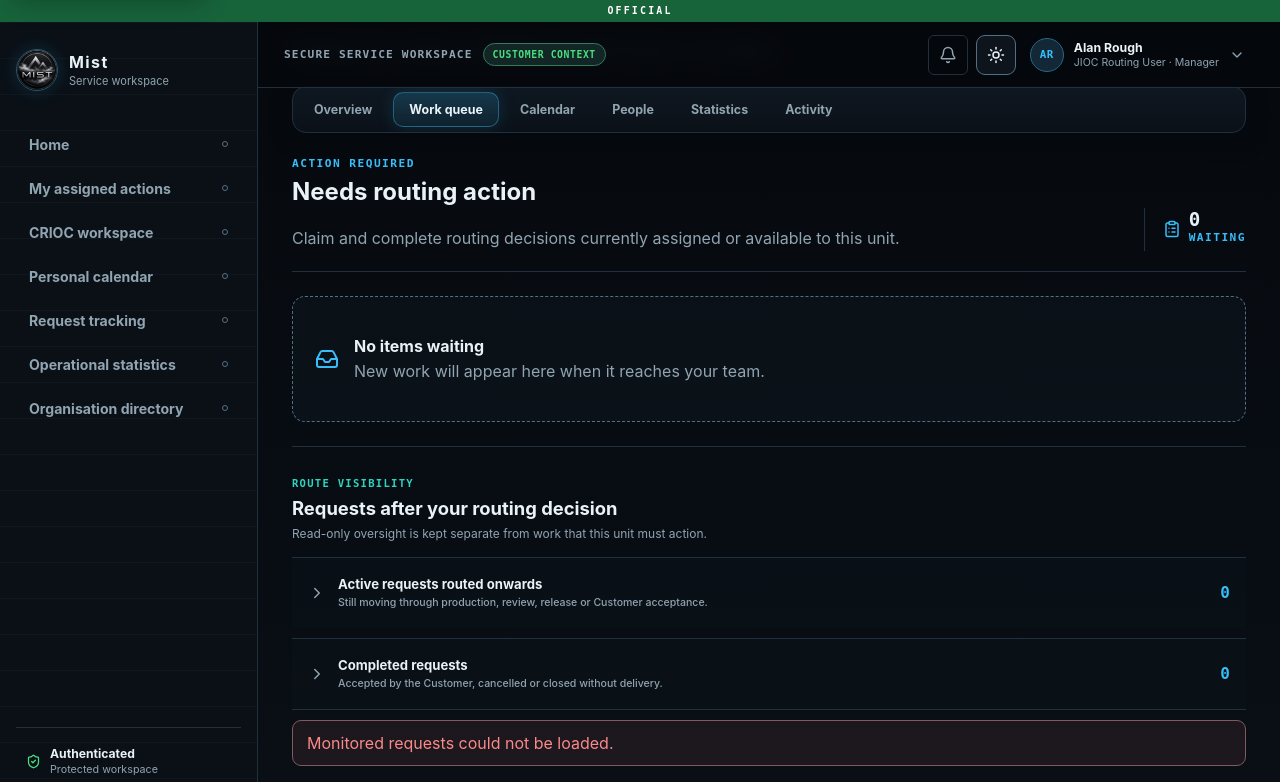
Test: routing organisation workspace › reports failed monitoring and leaves both disclosures safely empty
(page scrolled)
Check: the message shows "Monitored requests could not be loaded", box x1=307 y1=733 x2=614 y2=753
Click the heading that starts with "Active requests routed onwards" at (440, 584), box x1=308 y1=576 x2=1230 y2=609
(page scrolled)
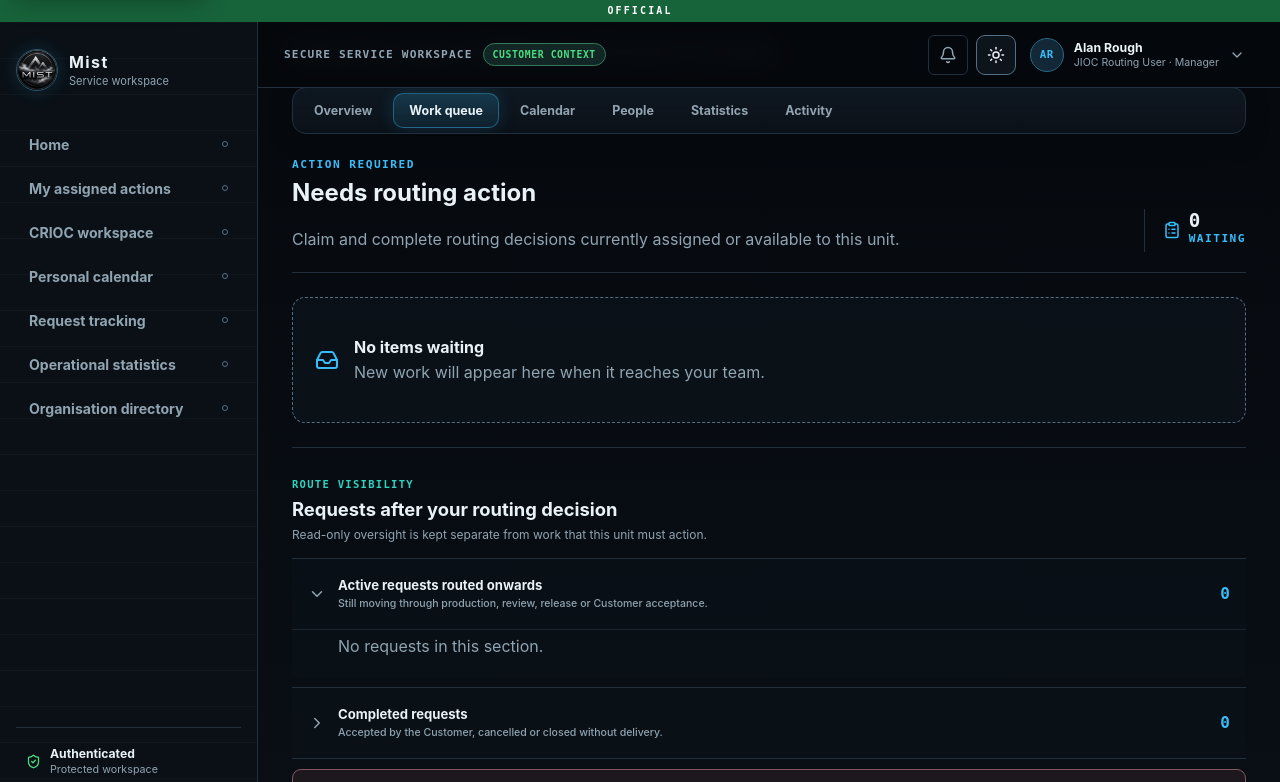
Check: the text "No requests in this section." is shown, box x1=338 y1=636 x2=543 y2=656
